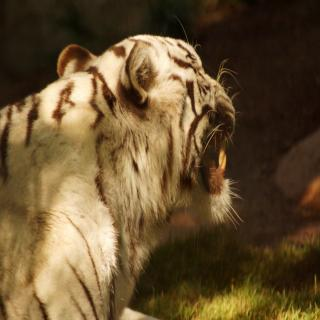Tiger: (0, 43, 237, 320)
